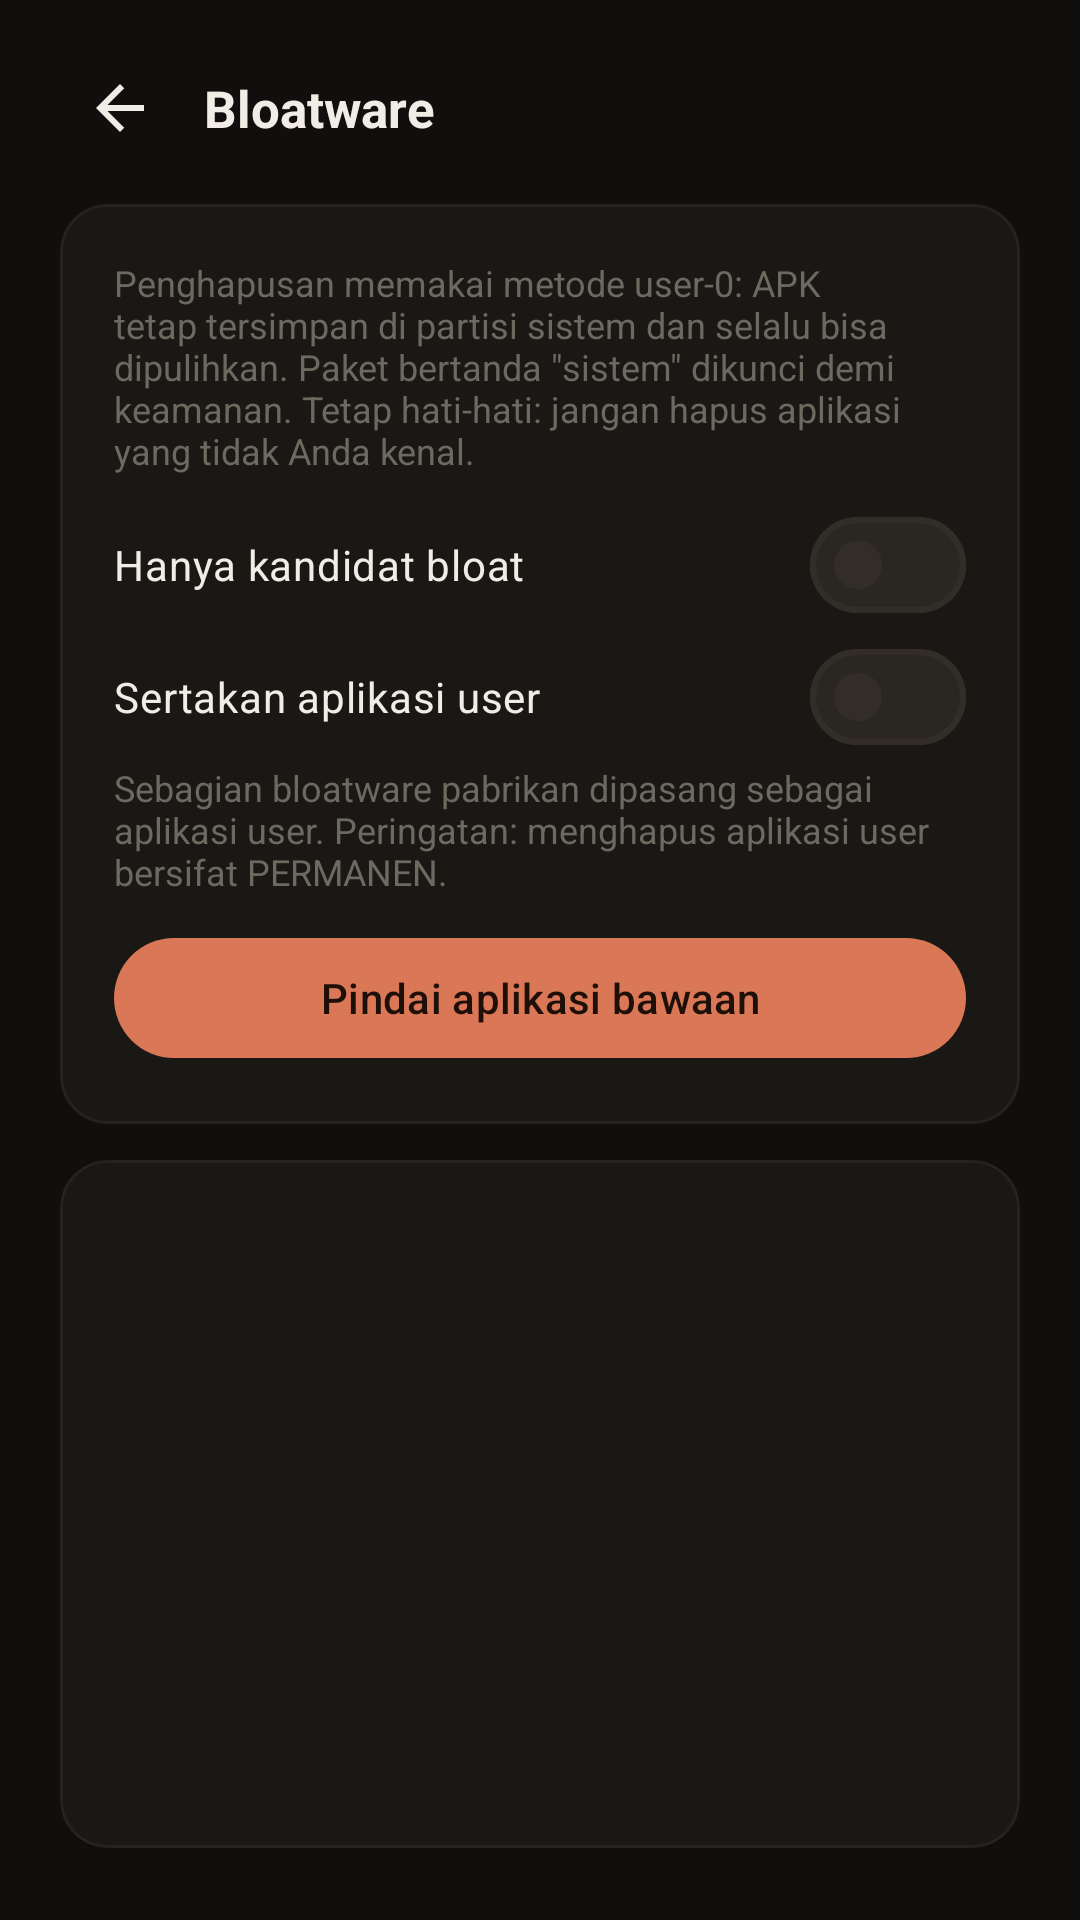

Screen size 1080px x 1920px. Icon name, then its center in pixels as point (x, y):
Kembali: point (120, 108)
